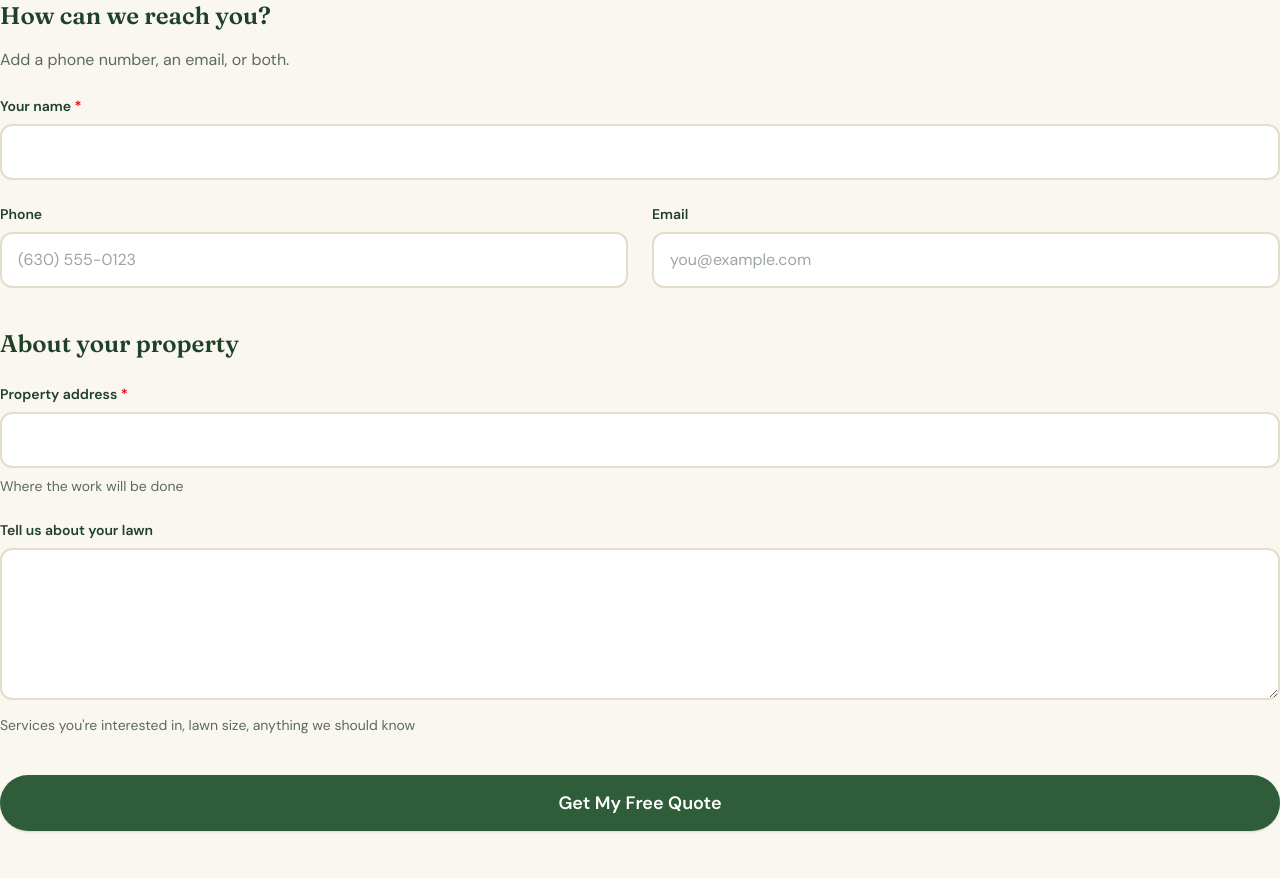
Test: QuoteForm › shows an error banner when the server request fails
The width and height of the screenshot is (1280, 878).
In the field labelled "Your name *": x=640, y=152 [0,124,1279,180], type "Jane Smith"
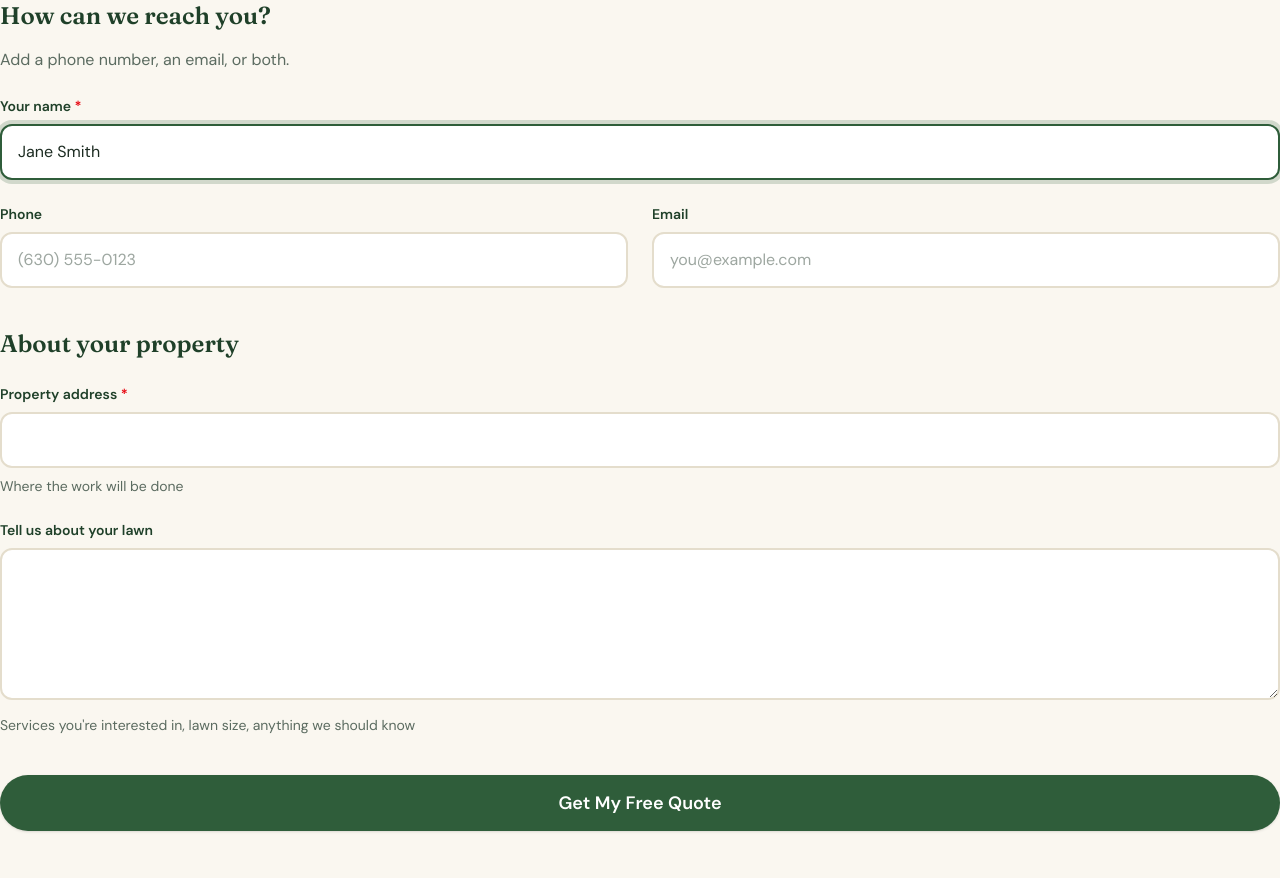
In the field labelled "Email": x=966, y=260 [652,232,1279,288], type "jane@example.com"
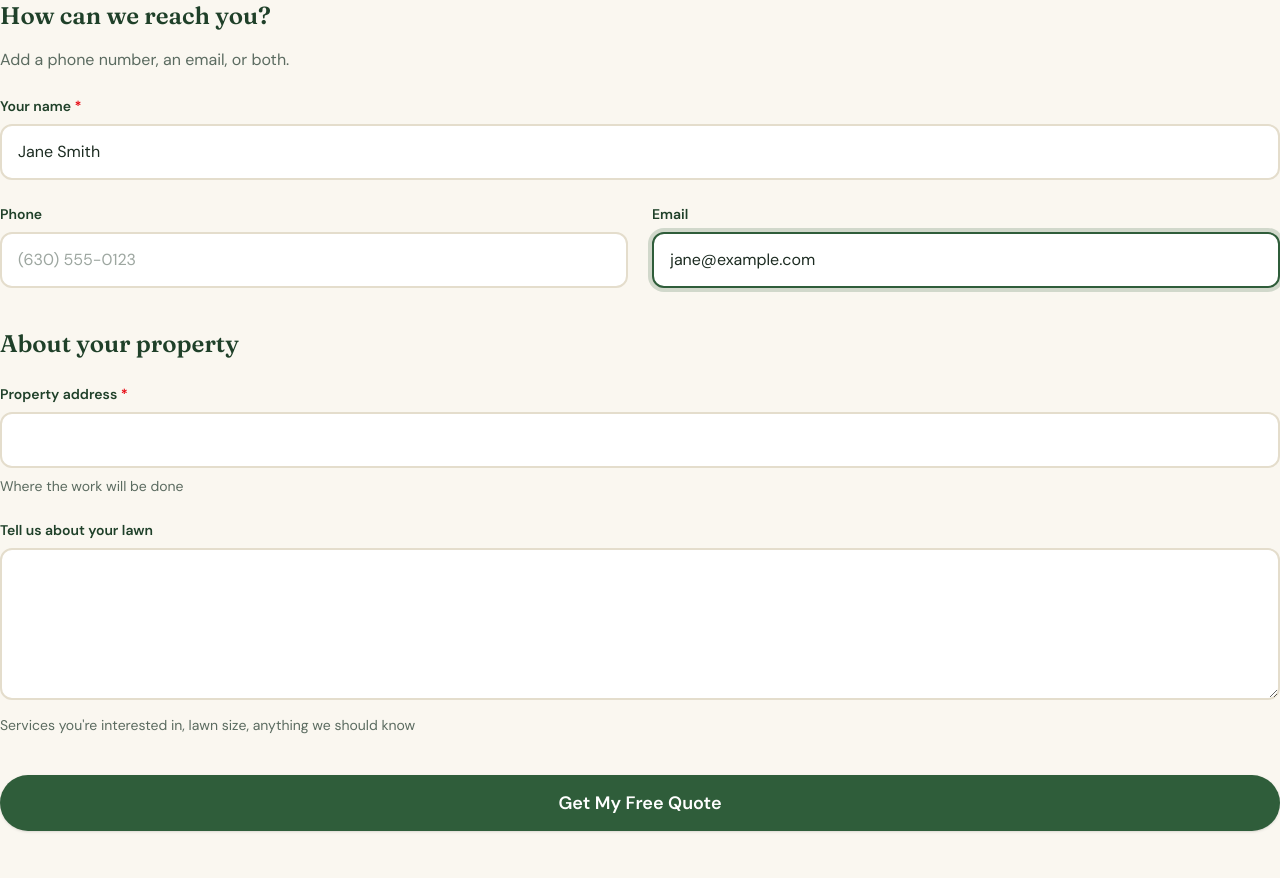
In the field labelled "Property address *": x=640, y=440 [0,412,1279,468], type "12 Main St"
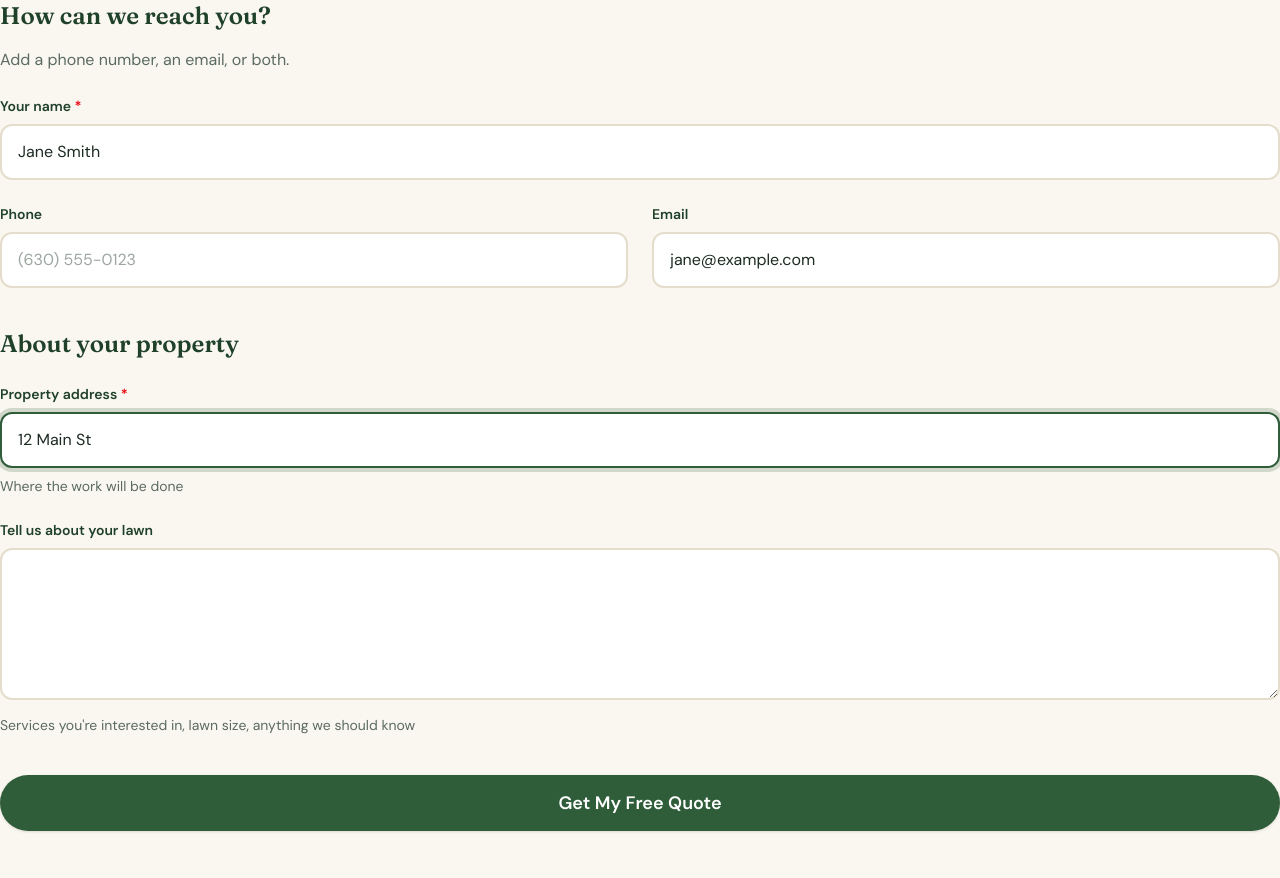
Click the button "Get My Free Quote": x=640, y=803 [0,775,1279,831]
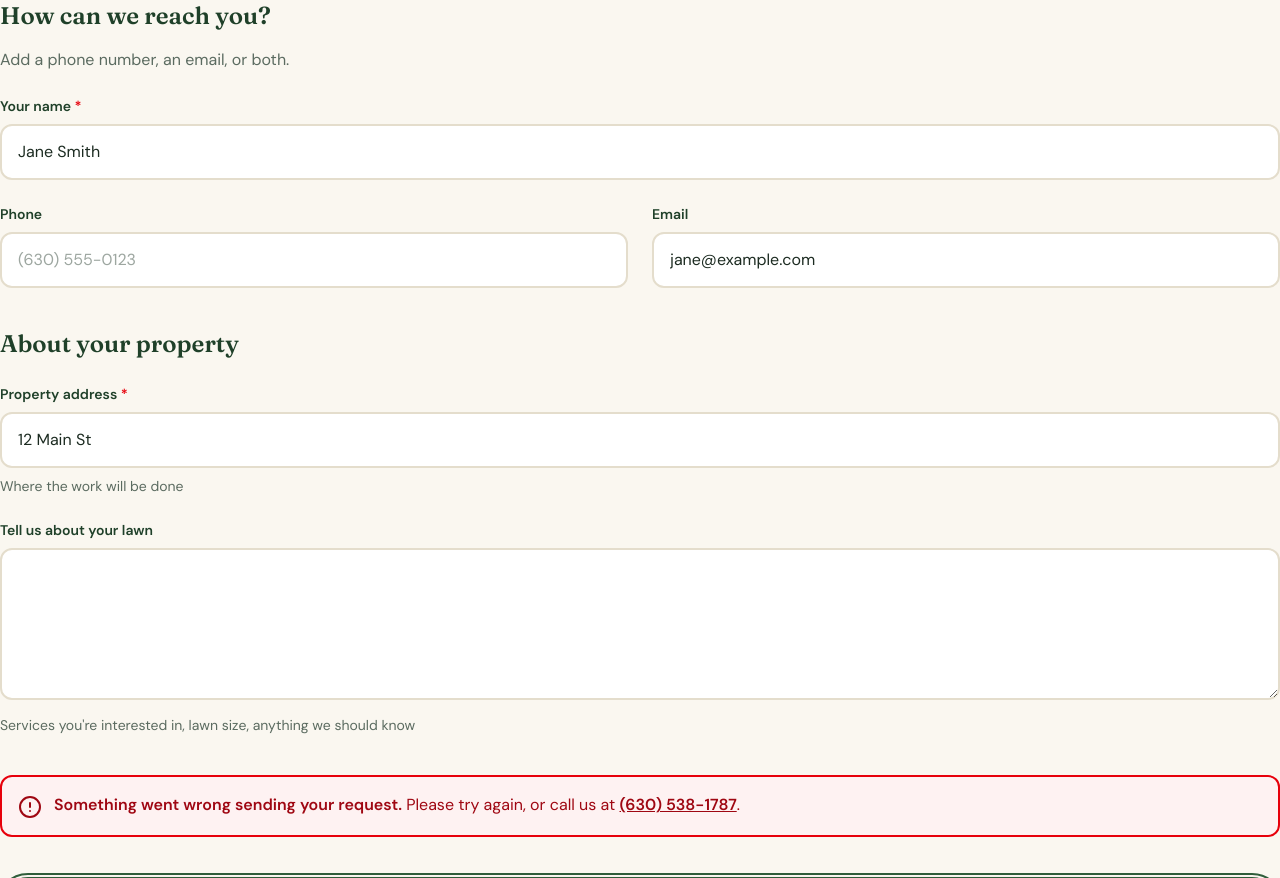
Result: the text "Something went wrong sending your request." is shown at [54,794,402,815]
